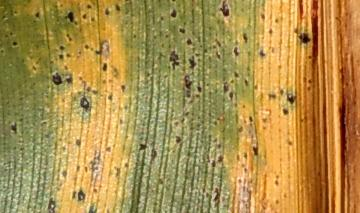tarspot: (217, 1, 230, 18), (170, 51, 180, 70), (297, 32, 311, 44), (213, 186, 220, 209), (187, 55, 197, 70), (79, 98, 90, 110), (52, 73, 62, 85), (185, 75, 192, 91), (48, 198, 55, 213), (149, 148, 157, 161), (232, 46, 241, 57), (287, 95, 298, 104), (10, 122, 18, 134), (64, 31, 72, 43), (66, 13, 75, 23), (173, 135, 183, 144), (251, 145, 259, 156), (215, 50, 223, 61), (78, 189, 85, 201), (178, 26, 187, 35), (137, 143, 147, 151), (113, 2, 121, 11), (258, 49, 266, 57), (268, 93, 277, 100), (210, 159, 217, 168), (242, 33, 248, 43), (223, 84, 229, 94), (11, 40, 18, 48), (65, 77, 73, 84), (282, 109, 289, 117), (217, 154, 224, 162), (89, 15, 97, 22), (259, 13, 266, 21), (85, 86, 92, 94), (158, 14, 165, 22), (71, 190, 77, 199), (81, 11, 87, 20), (105, 7, 111, 16), (171, 9, 177, 18), (228, 91, 234, 100), (34, 12, 41, 19), (107, 94, 114, 101), (94, 50, 102, 56), (85, 3, 93, 9), (186, 37, 192, 45), (247, 114, 253, 122), (92, 88, 98, 96), (243, 153, 249, 161), (83, 165, 89, 173), (75, 138, 81, 145), (65, 52, 72, 58), (234, 72, 241, 78), (274, 180, 280, 187), (62, 64, 69, 70), (102, 63, 107, 71), (120, 84, 125, 92), (268, 27, 273, 35), (59, 45, 65, 51), (84, 44, 90, 50), (245, 79, 249, 88), (306, 85, 312, 91), (274, 17, 280, 23), (132, 33, 138, 39), (62, 169, 67, 176), (1, 14, 6, 21), (197, 87, 202, 93), (1, 48, 6, 54), (185, 111, 190, 117), (9, 31, 14, 37), (3, 33, 9, 38), (14, 10, 19, 16), (164, 33, 169, 39), (307, 54, 312, 60), (59, 54, 64, 59), (186, 94, 192, 98), (308, 79, 312, 84)
